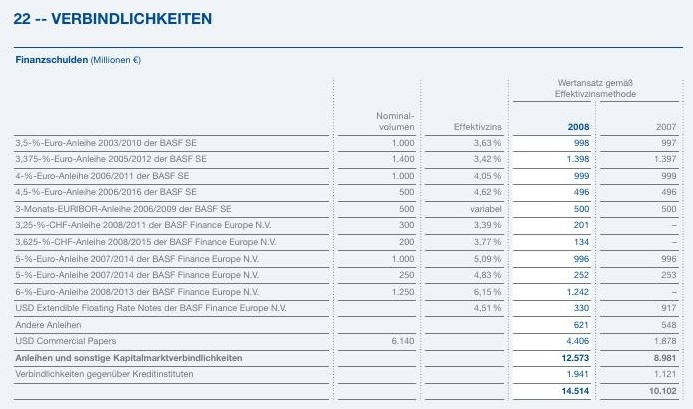table: (0, 0, 693, 409)
